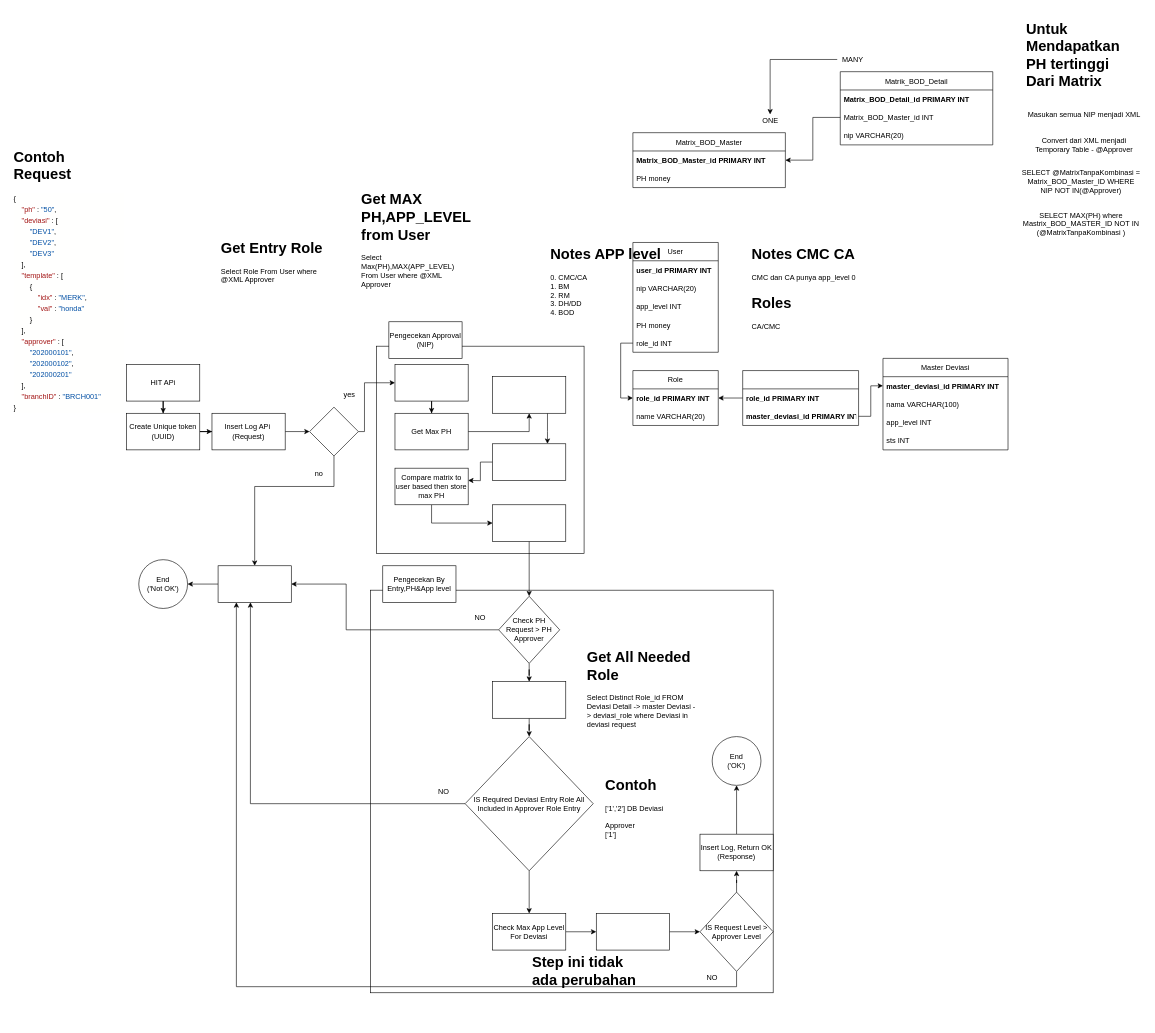
Image size: 1155x1033. Some labels were removed from this diagram. Each missing label, with the box of its shape:
Check By PH (User Based only): (492, 443, 566, 480)
Check Entry Role For Deviasi: (492, 681, 566, 718)
Check Matrix BOD: (492, 376, 566, 413)
Check Max App Level For Template: (596, 913, 669, 950)
Check Max Approval Level By User then Store: (492, 504, 566, 541)
Get Entry Role: (394, 364, 468, 401)
Insert Log, Return NO (Response): (217, 565, 291, 602)
Is Valid Body?: (309, 407, 358, 456)
master_deviasi_role: (742, 370, 859, 425)
